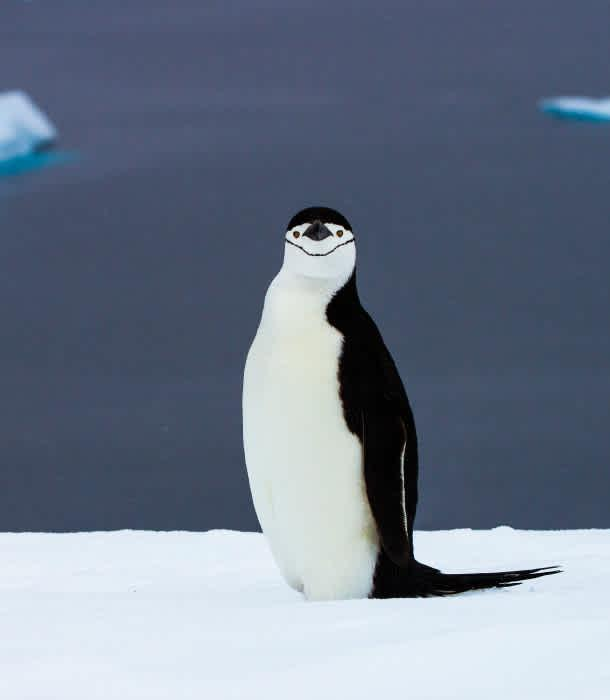chinstrap: (218, 193, 538, 664)
